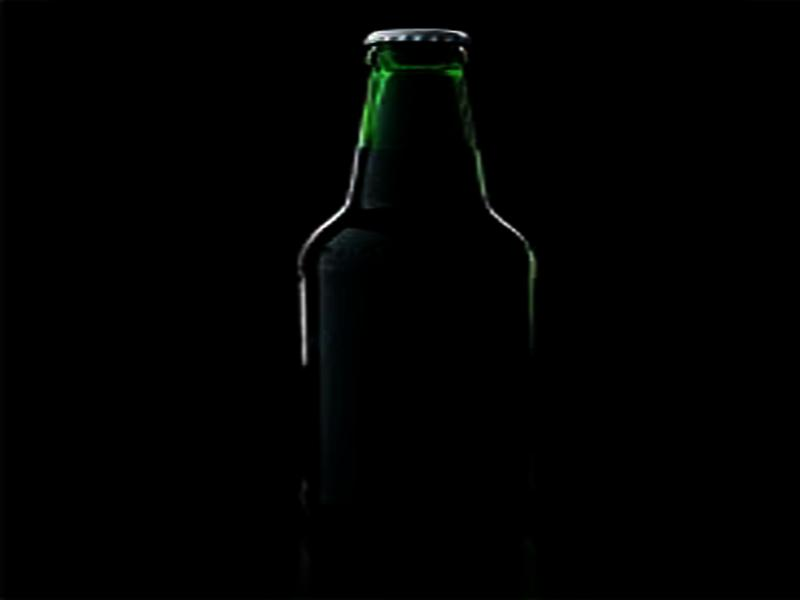Beer: (288, 26, 537, 515)
